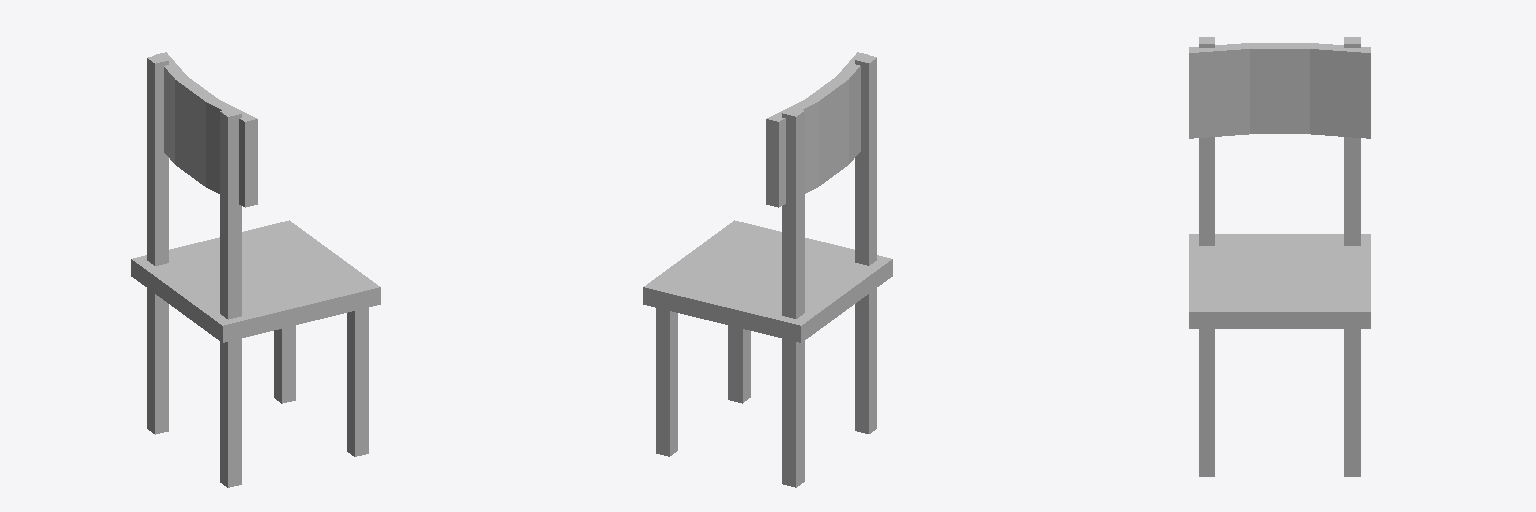
The model's file is placeHolder.obj.
The picture shows the model from 3 angles: view 1: azimuth 30°, elevation 25°; view 2: azimuth 150°, elevation 25°; view 3: azimuth 270°, elevation 25°; orthographic projection.
Visible parts, largest first — view 1: Cube.008_Cube.007; view 2: Cube.008_Cube.007; view 3: Cube.008_Cube.007.
Boxes of the visible parts, box(x1,y1,x2,y2) form: Cube.008_Cube.007: box(131, 52, 380, 487); Cube.008_Cube.007: box(643, 52, 892, 487); Cube.008_Cube.007: box(1189, 37, 1370, 476).
Size of the model in its own units: 1.05 by 2.36 by 1.05.